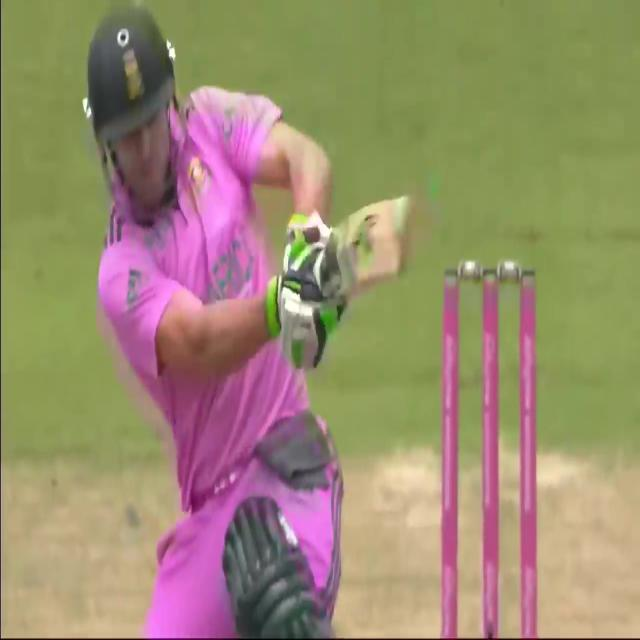Ball: (92, 0, 419, 638)
